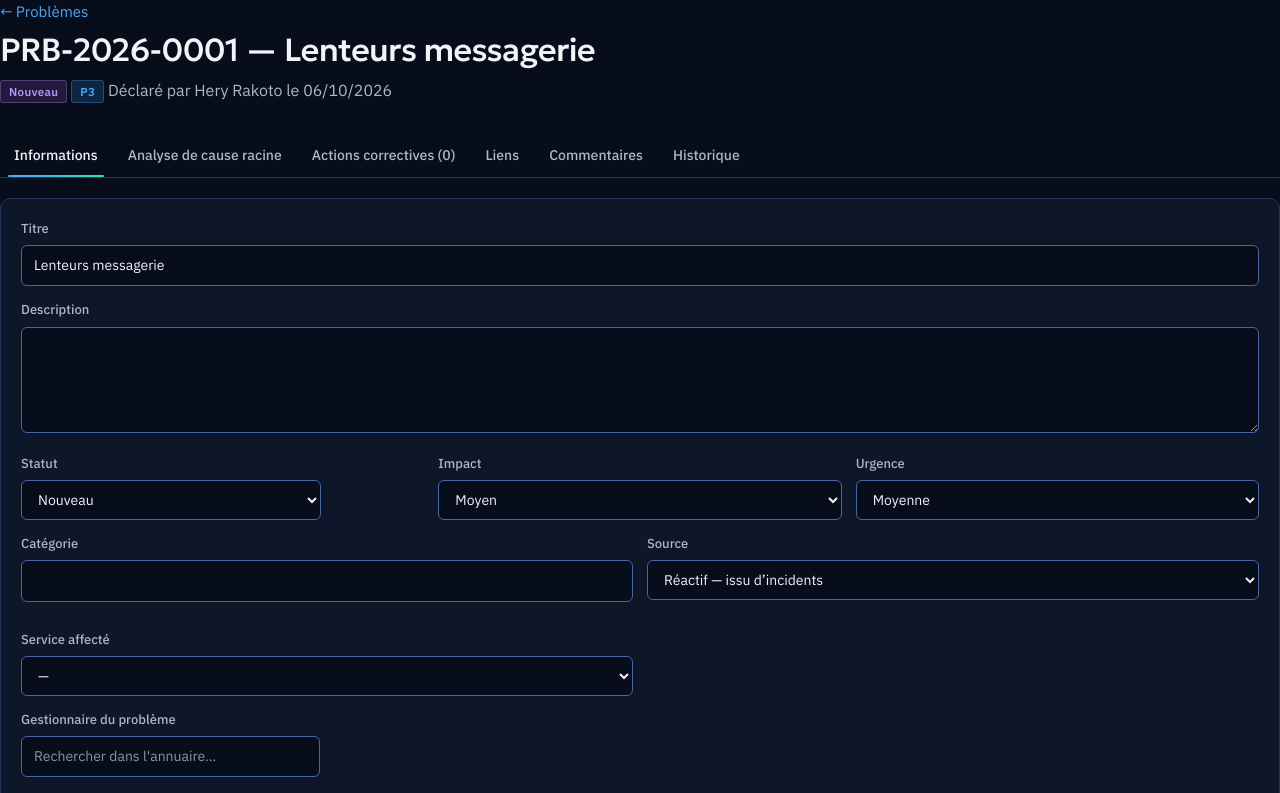
Test: Analyse de cause racine — démarrer une analyse (B1) › « + Arbre des défaillances (FTA) » ouvre l'éditeur sans planter
The width and height of the screenshot is (1280, 793).
Click the tab "Analyse de cause racine" at coordinates (205, 156), box [114,135,296,177]
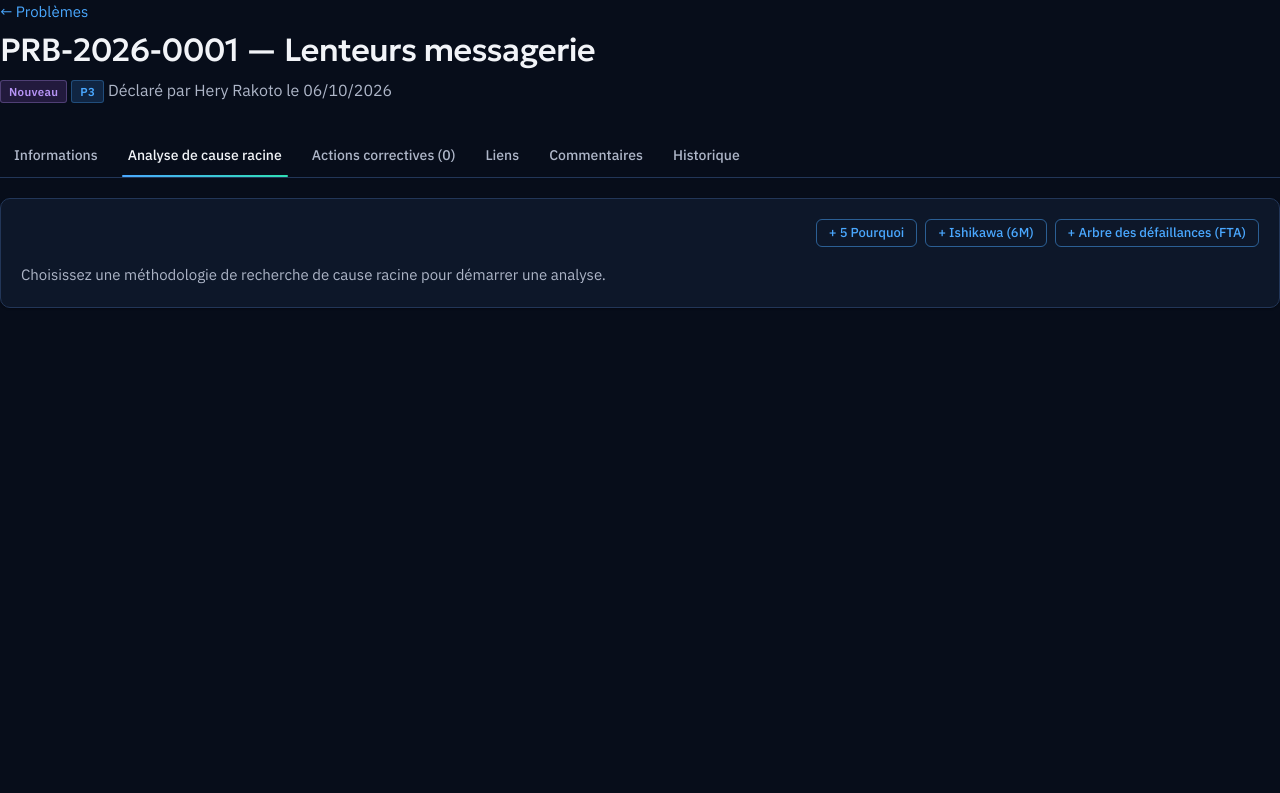
Click the button "+ Arbre des défaillances (FTA)" at coordinates (1157, 233), box [1055,219,1259,248]
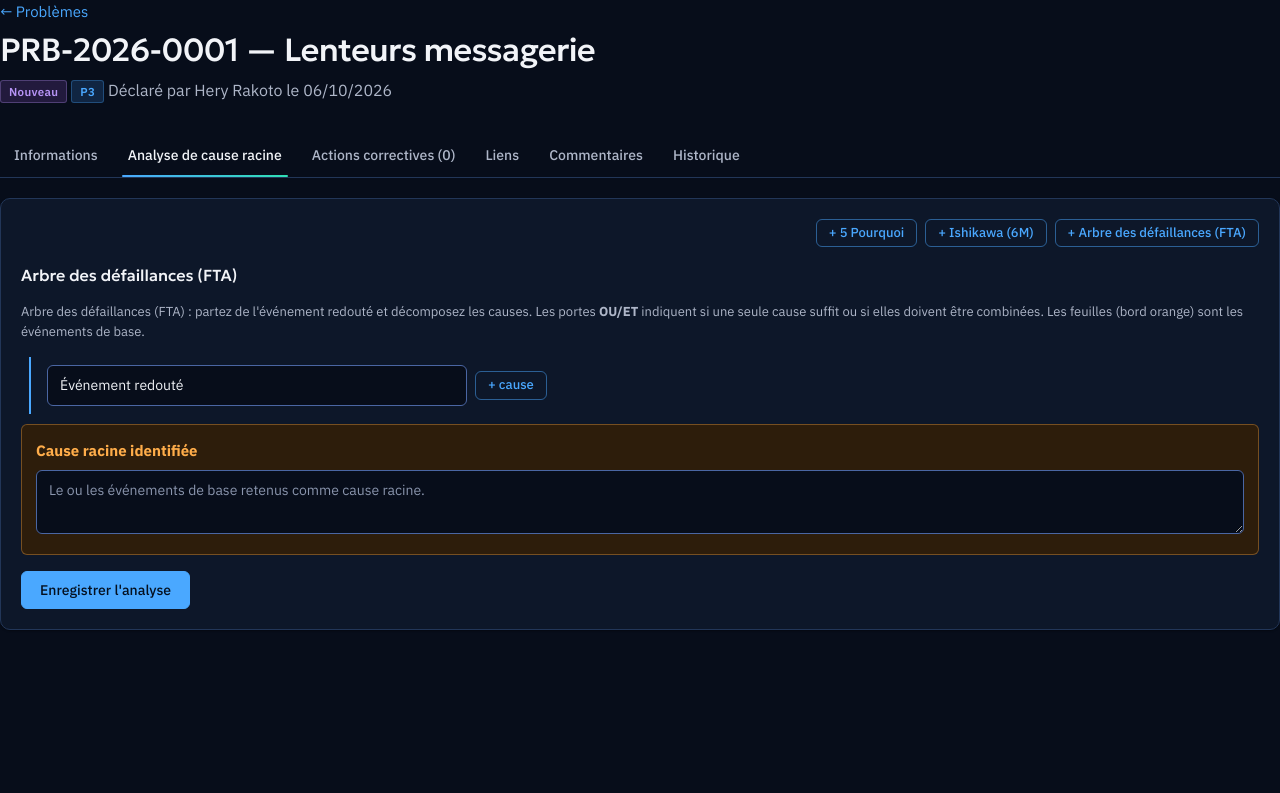
Check: the text "Cause racine identifiée" is shown, box [36,441,198,460]
Check: the button "Enregistrer l'analyse" is shown, box [21,571,190,609]
